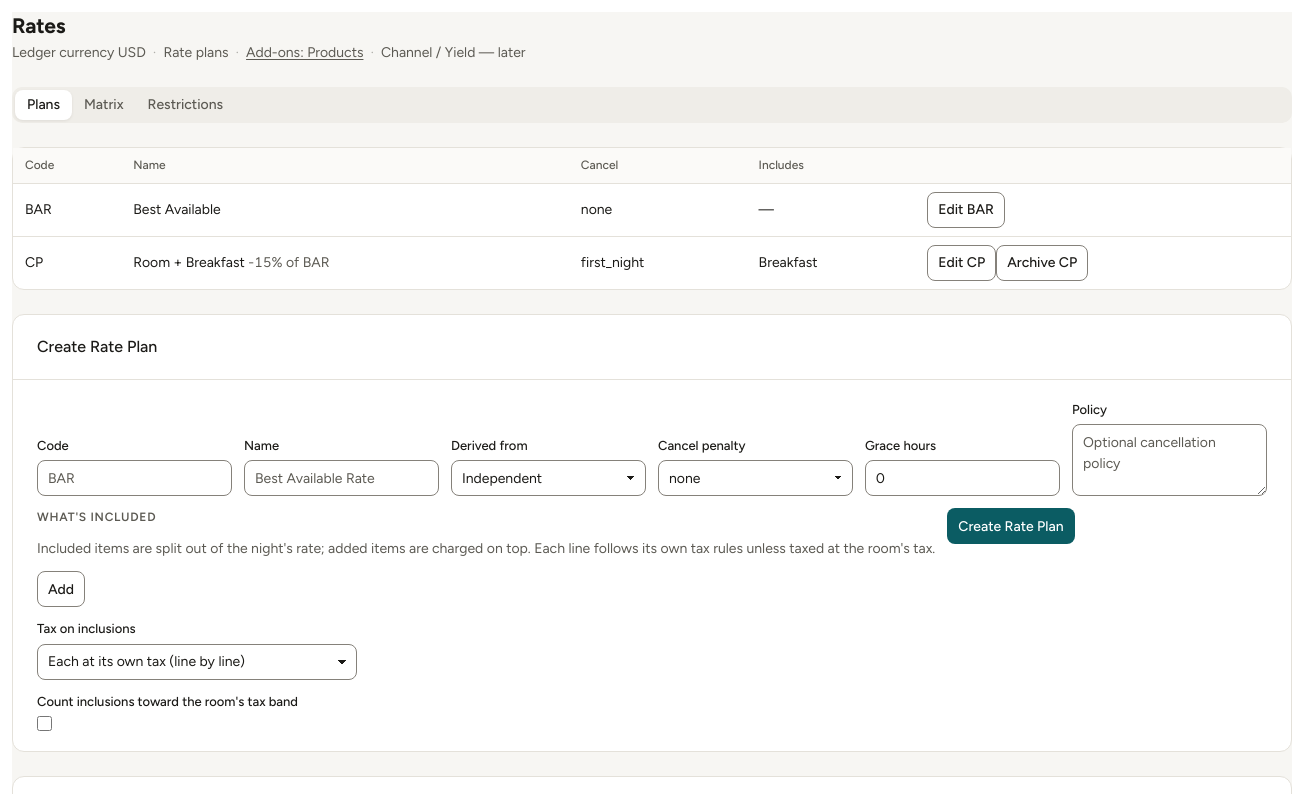
it: RatesScreen › edits an existing plan, prefills inclusions, and saves only the changes
Click the button "Edit CP": (962, 263) [927,245,996,281]
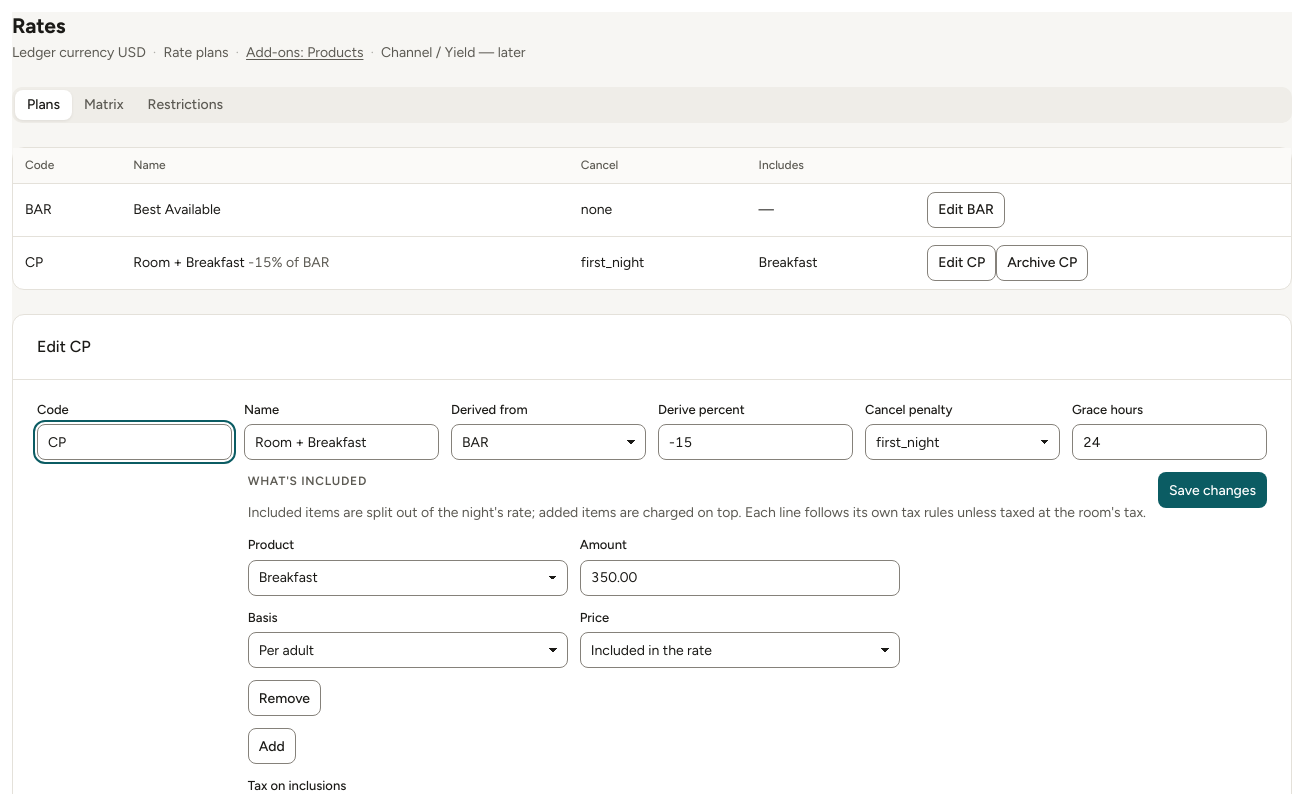
Expected: the field labelled "Code" holds "CP", [37,424,232,460]
Expected: the field labelled "Name" holds "Room + Breakfast"
Expected: the dropdown labelled "Derived from" shows "BAR", [451,424,646,460]
Replace the text in the field labelled "Name" with "CP revised": (342, 442) [244,424,439,460]
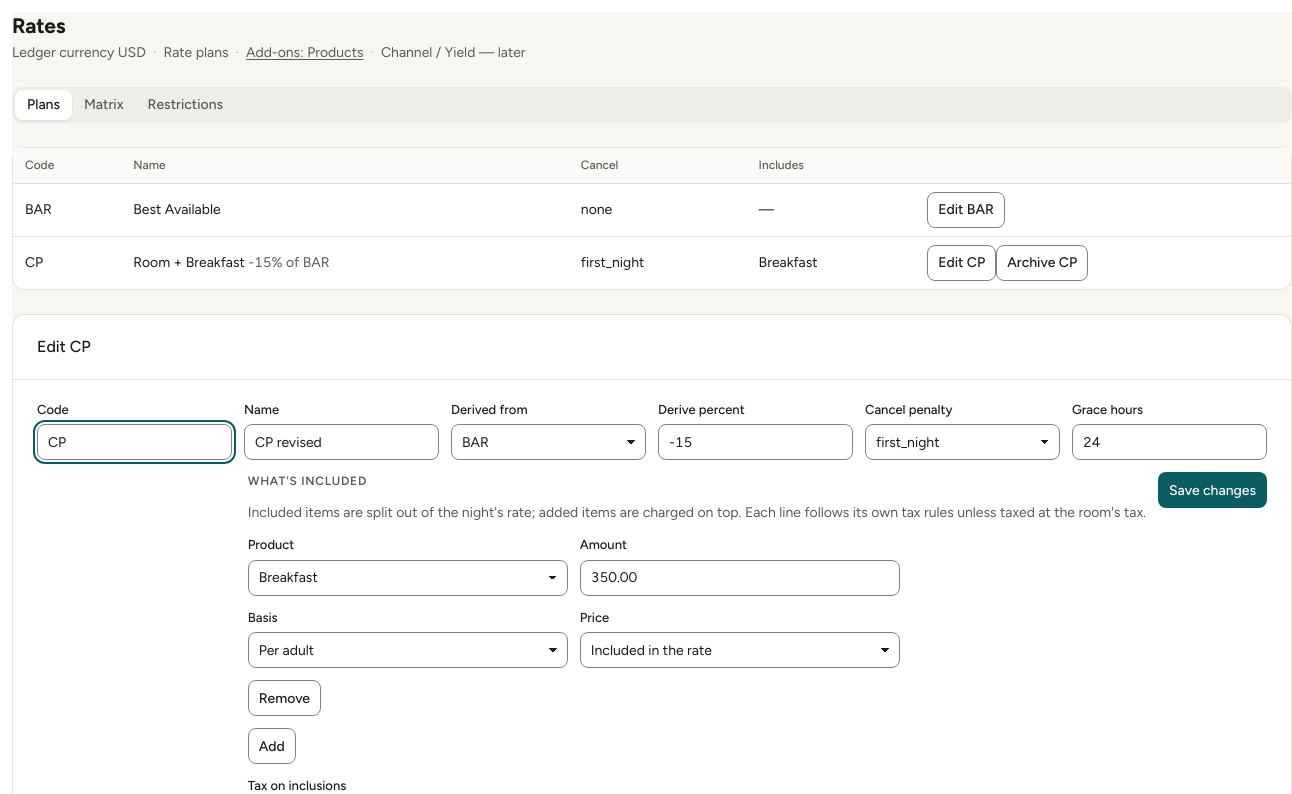
Click the button "Save changes": (1212, 490) [1158,472,1267,508]
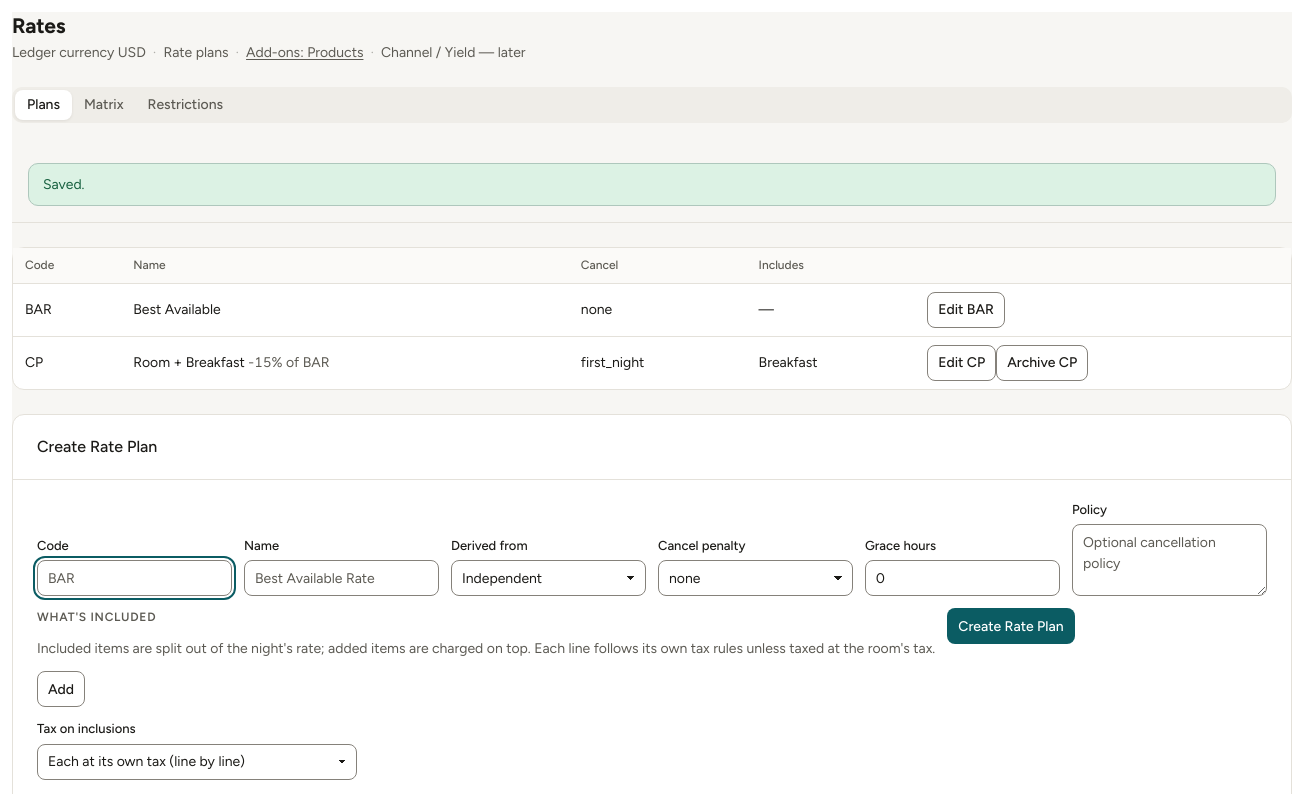
Expected: the heading "Create Rate Plan" is shown, [37,435,157,459]
Expected: the message reads "Saved.", [43,176,84,193]
